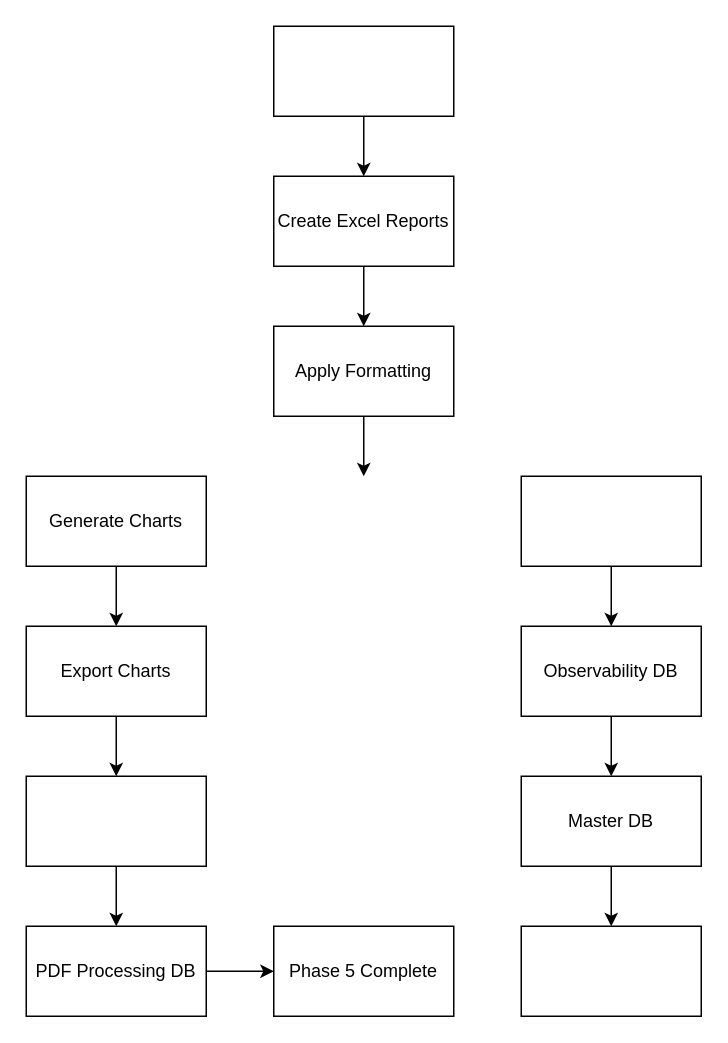
The diagram is 728 pixels wide and 1043 high, and some of its shapes have lost their labels. Here are the shapes that lost their labels. From the top down, the centre of each, then its label:
pixel 363 70: Phase 4 Complete
pixel 610 520: Update Databases
pixel 115 820: Log Operations
pixel 610 970: Vector Store DB
